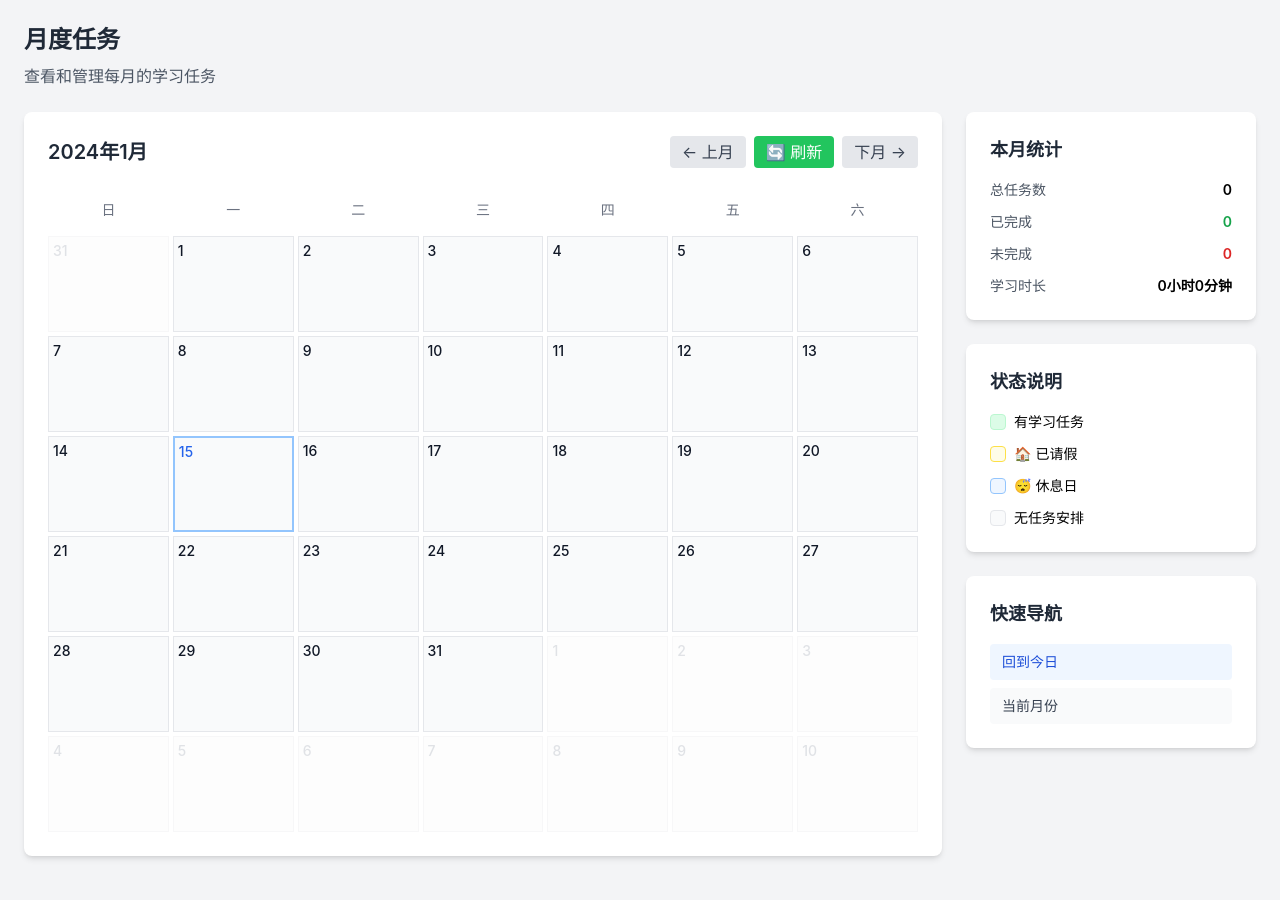
Test: MonthScreen Component › navigates to previous month
The image size is (1280, 900).
expect the heading "2024年1月" is shown: met, box x1=48 y1=138 x2=148 y2=166
Click the button "← 上月" at (708, 152), box x1=670 y1=136 x2=746 y2=168
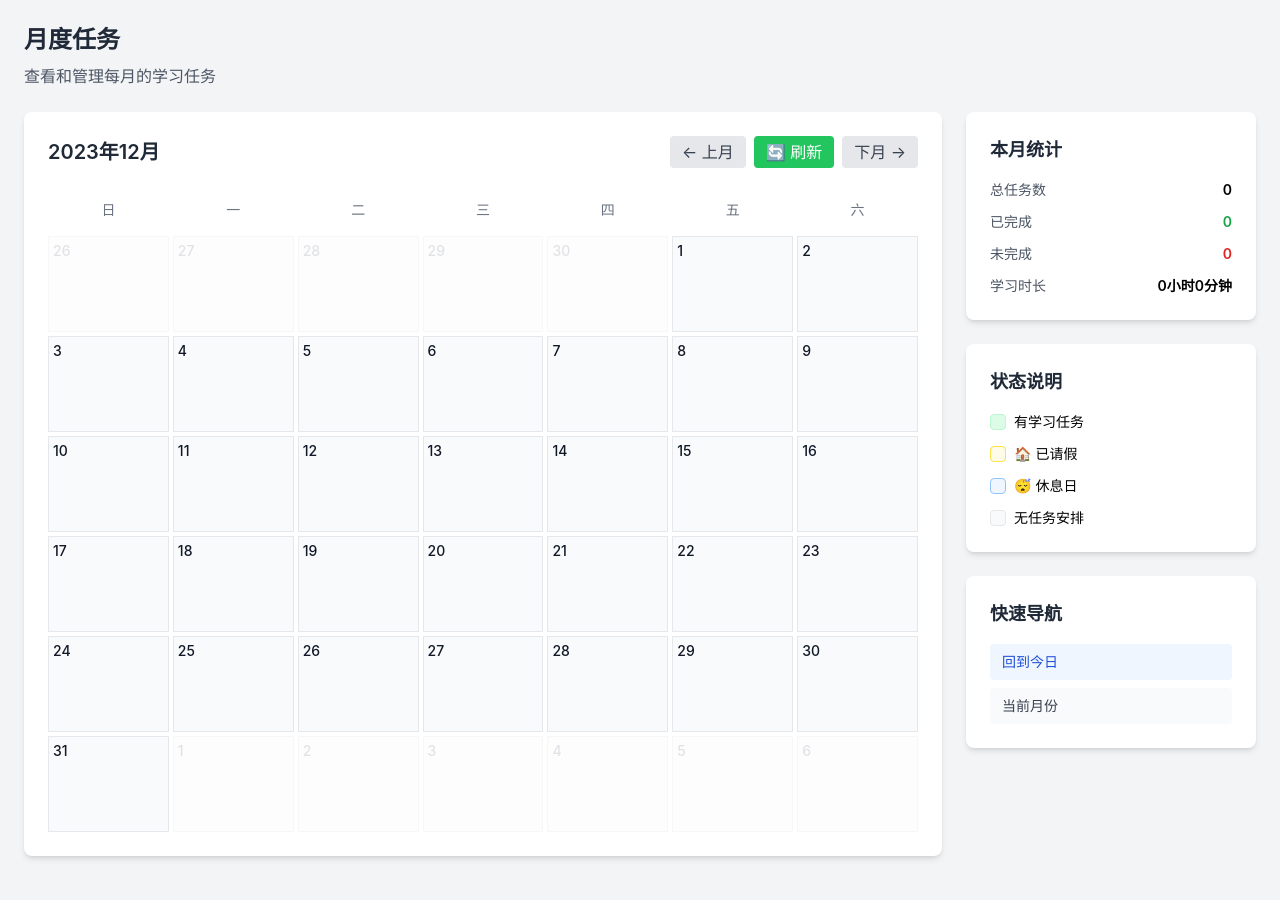
expect the heading "2023年12月" is shown: met, box x1=48 y1=138 x2=160 y2=166
